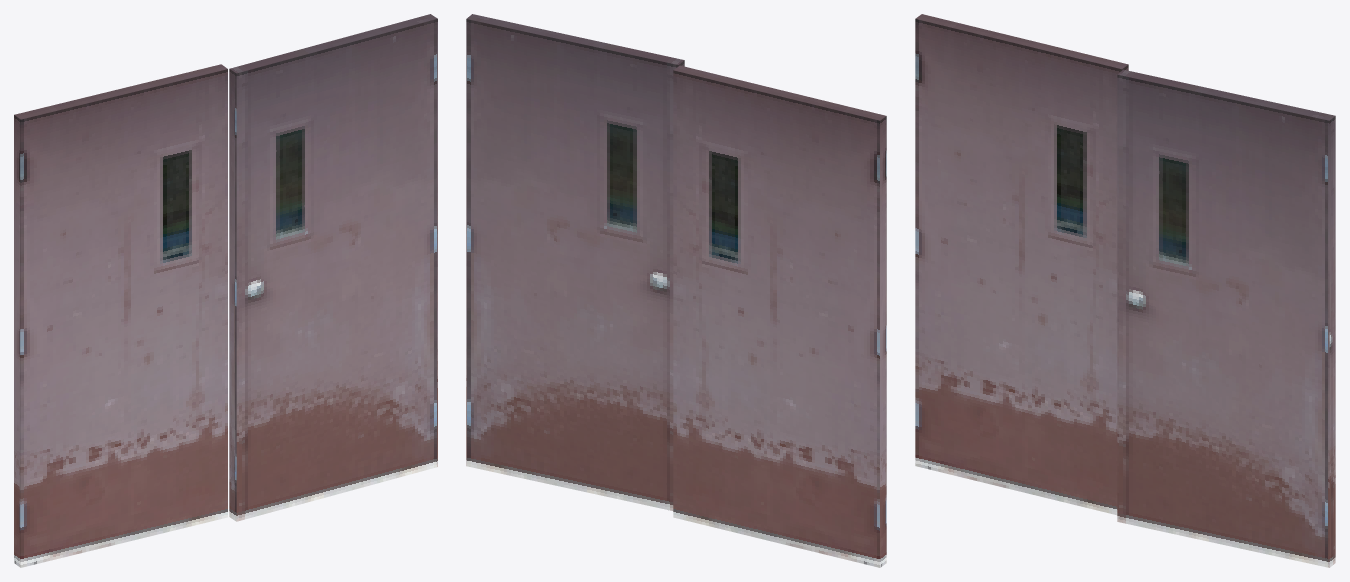
Rendered from door_double_brown.glb.
3 views of the same model, side by side, from view 1: azimuth 30°, elevation 25°; view 2: azimuth 150°, elevation 25°; view 3: azimuth 330°, elevation 25° (orthographic).
Parts seen in each view (by area): view 1: Door_Shed_A; view 2: Door_Shed_A; view 3: Door_Shed_A.
Part boxes in pixels (bbox=[...]): Door_Shed_A: bbox=[14, 14, 437, 567]; Door_Shed_A: bbox=[466, 14, 886, 567]; Door_Shed_A: bbox=[915, 14, 1335, 567].
Size of the model in its own units: 1.84 by 1.89 by 0.1015.
Materials: 2 (2 with a texture image).
